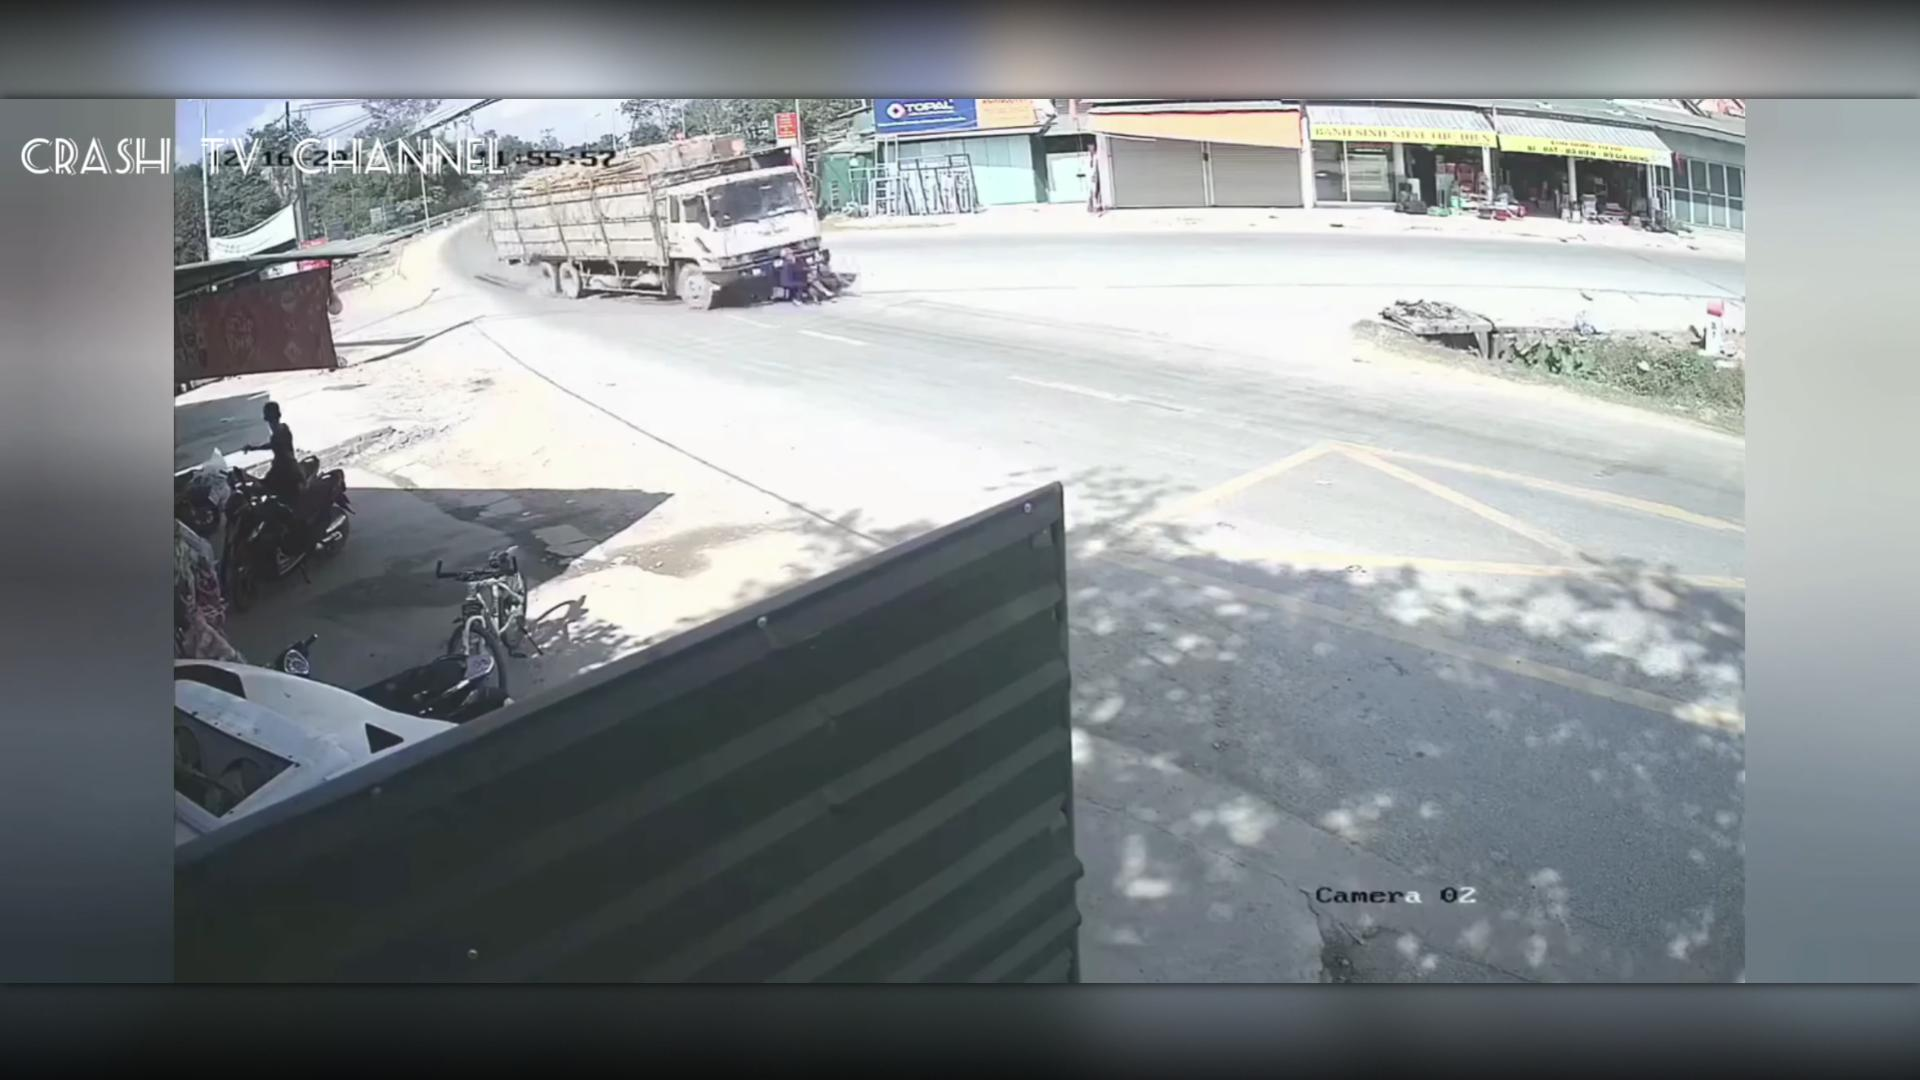accident: (723, 241, 862, 319)
truck: (485, 141, 835, 314)
